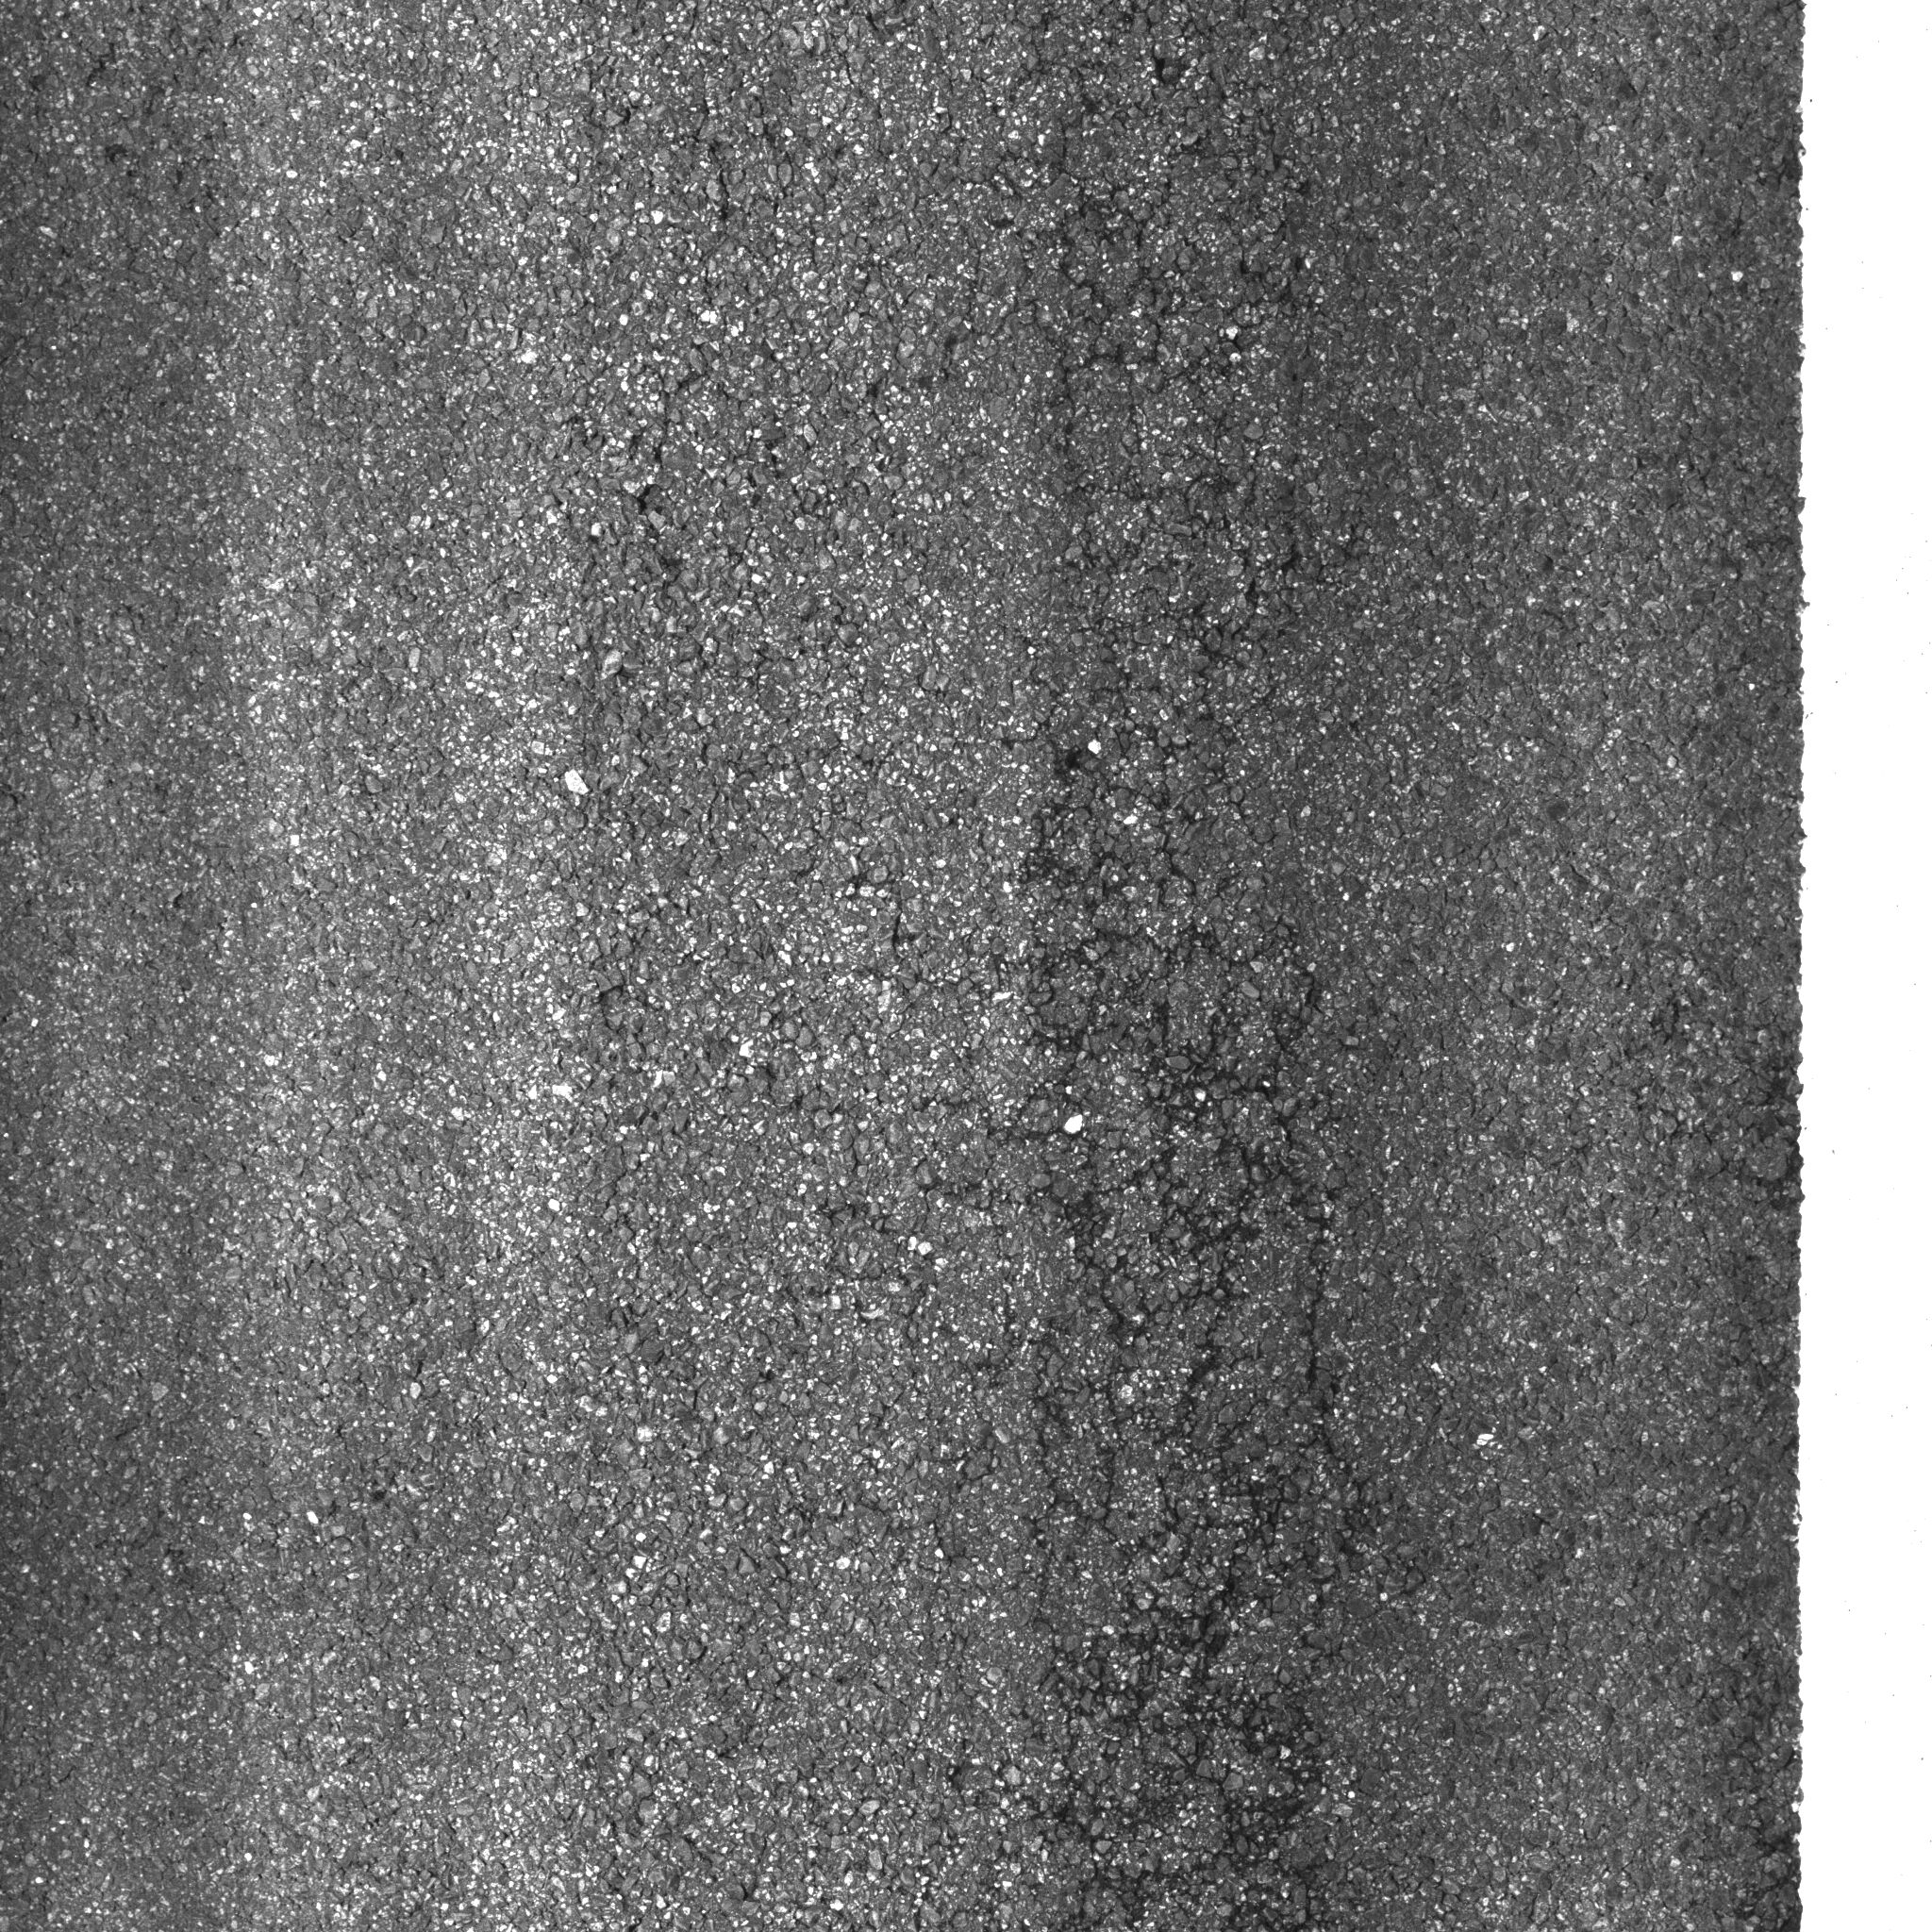alligator: (577, 104, 1569, 1932)
